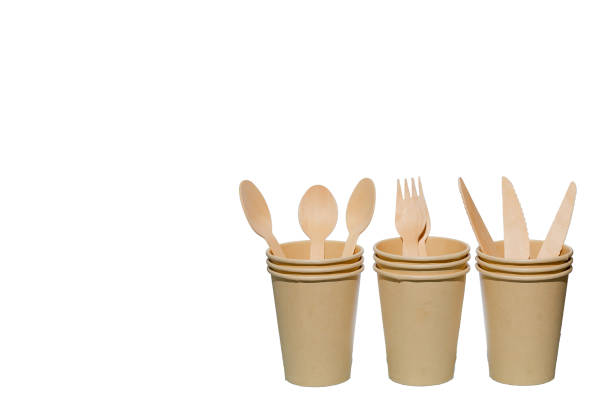Wooden Utensils: (237, 168, 373, 269), (455, 172, 579, 271), (390, 174, 437, 262)
